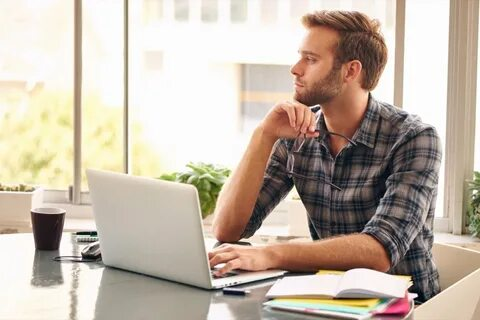awake: (209, 8, 444, 275)
